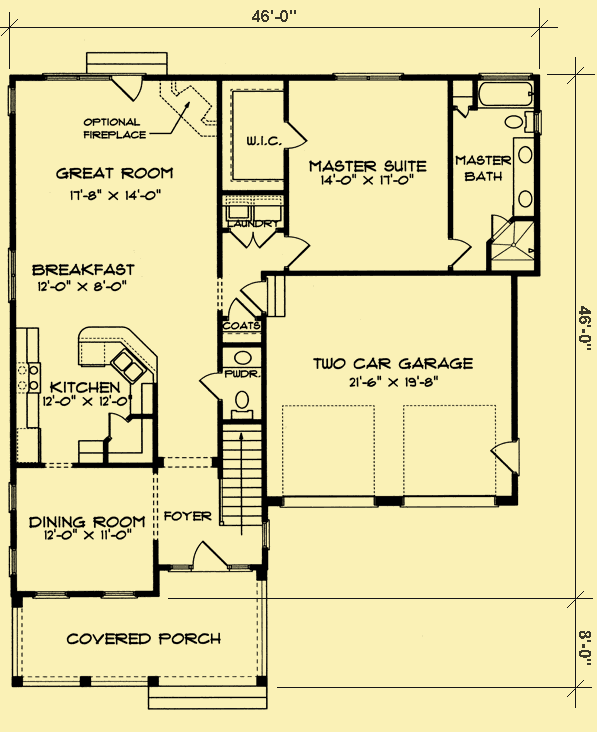door: (188, 534, 232, 579), (237, 275, 275, 314), (282, 233, 316, 271), (277, 116, 311, 154), (112, 71, 151, 104), (227, 225, 283, 247), (220, 297, 264, 323), (445, 235, 474, 272), (197, 370, 229, 403), (482, 210, 513, 239), (102, 406, 129, 436)
kitchen bar: (75, 321, 172, 414)
large sink: (227, 388, 263, 427), (501, 107, 542, 138)
small sink: (506, 134, 540, 217), (220, 345, 265, 373)
stairs: (214, 418, 271, 538)
tub: (476, 76, 539, 108)
windows: (326, 67, 410, 86), (17, 673, 91, 692), (85, 672, 149, 693), (7, 247, 24, 308), (95, 585, 144, 603), (5, 541, 23, 586), (27, 586, 71, 604), (6, 477, 20, 520)
